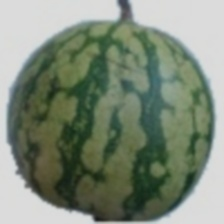watermelon: (13, 8, 184, 175)
